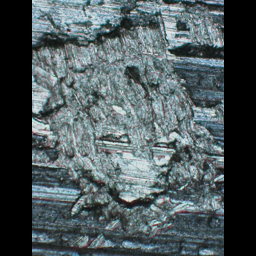d: (32, 0, 221, 252)
